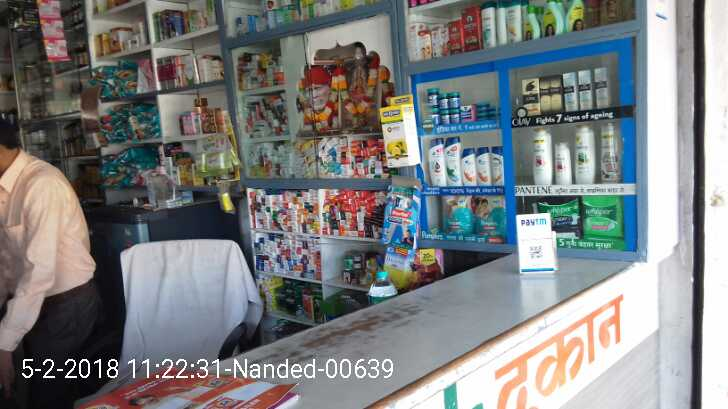vicks: (427, 84, 501, 129)
